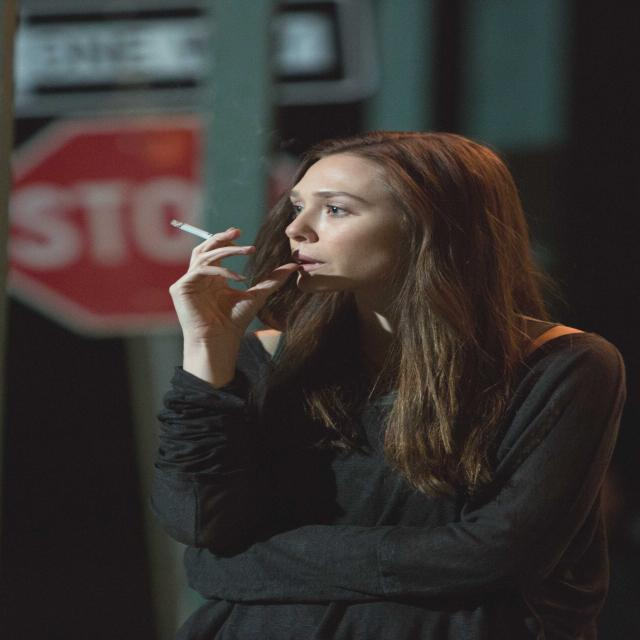Smooking: (146, 212, 213, 253)
